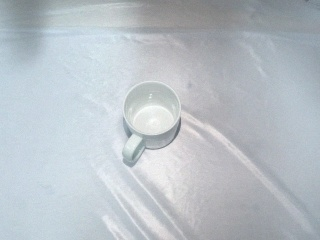cup: (122, 79, 182, 167)
